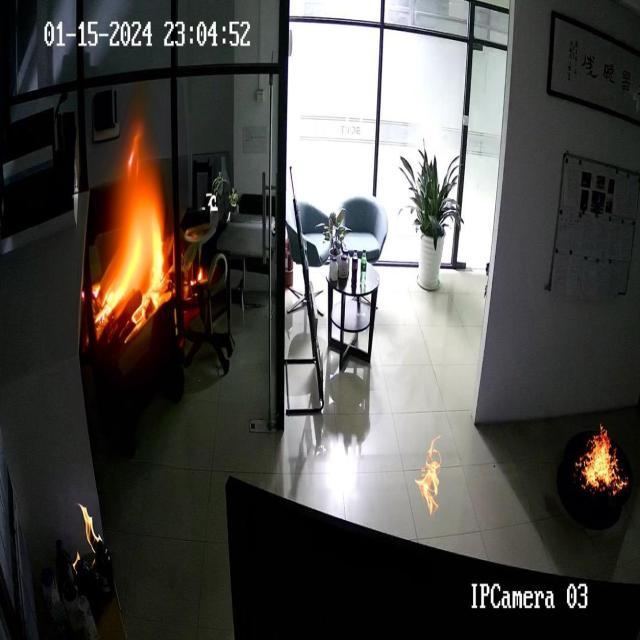smoke: (84, 128, 206, 336), (574, 418, 634, 496), (415, 427, 440, 518), (80, 498, 108, 556)
